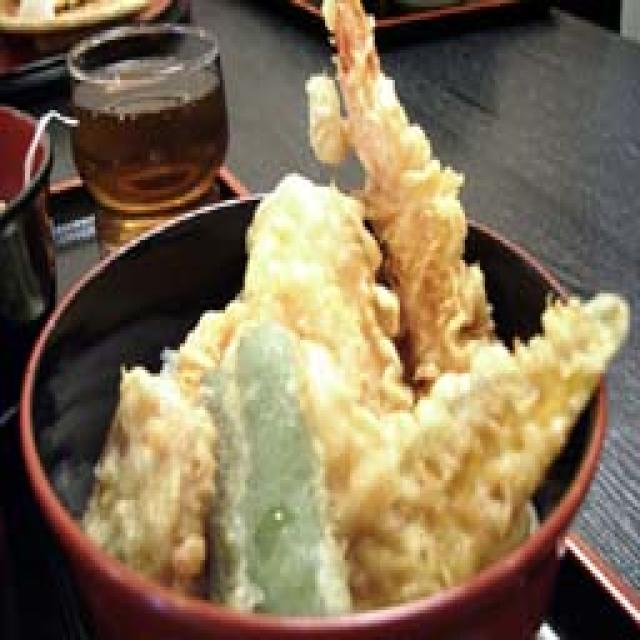熟制海鲜: (7, 153, 640, 639)
